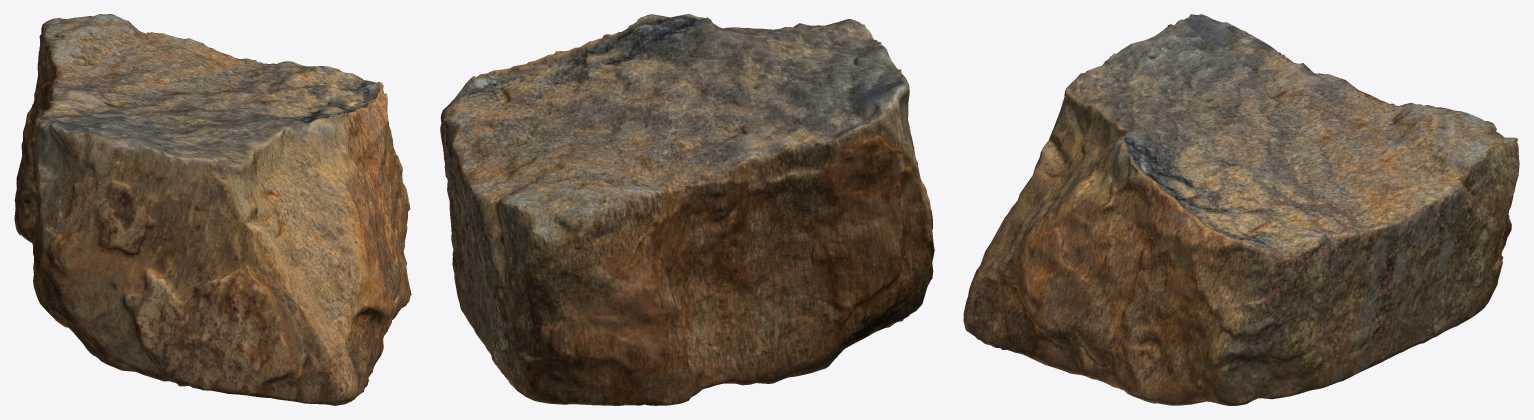
Rendered from namaqualand_boulder_03.glb.
3 renders of one model, left to right at view 1: azimuth 30°, elevation 25°; view 2: azimuth 150°, elevation 25°; view 3: azimuth 270°, elevation 25°, orthographic. The views are drawn at different scales.
Parts seen in each view (by area): view 1: boulder_03_mesh; view 2: boulder_03_mesh; view 3: boulder_03_mesh.
Boxes of the visible parts, box(x1,y1,x2,y2) form: boulder_03_mesh: box(14, 14, 411, 405); boulder_03_mesh: box(440, 14, 934, 405); boulder_03_mesh: box(963, 14, 1519, 405).
Size of the model in its own units: 2.41 by 1.47 by 3.07.
Materials: 1 (1 with a texture image).
